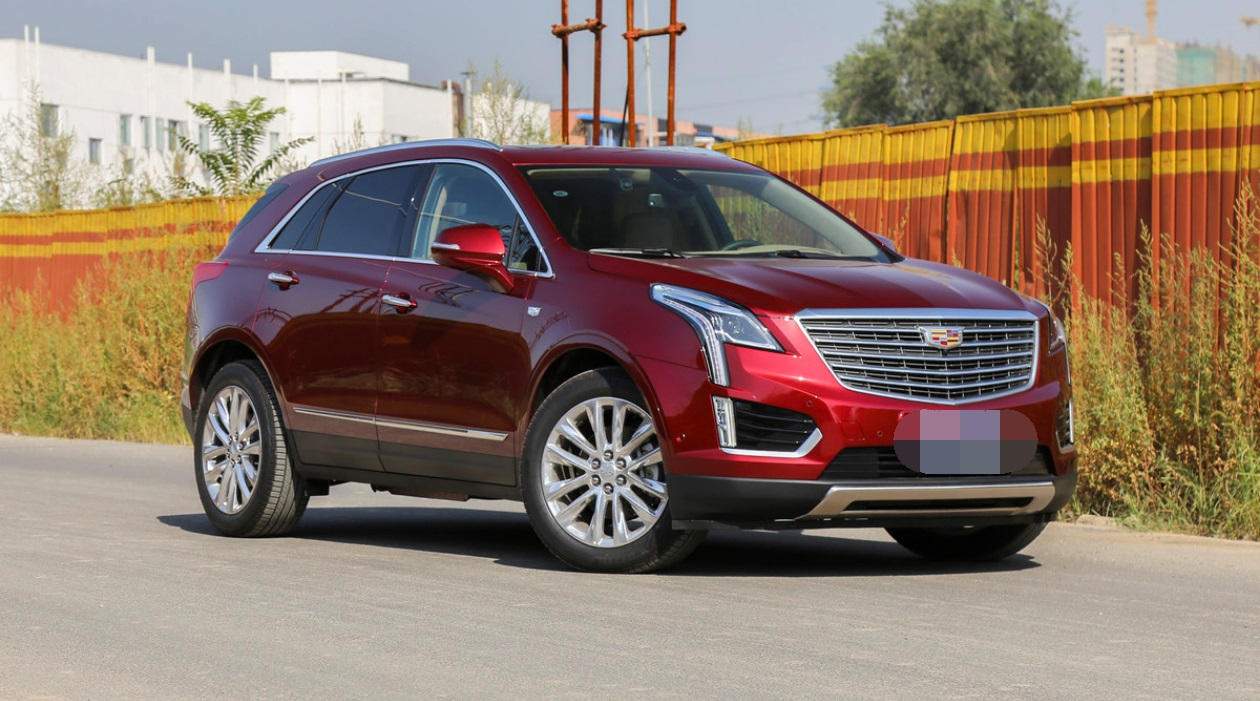SUV: (179, 134, 1083, 580)
